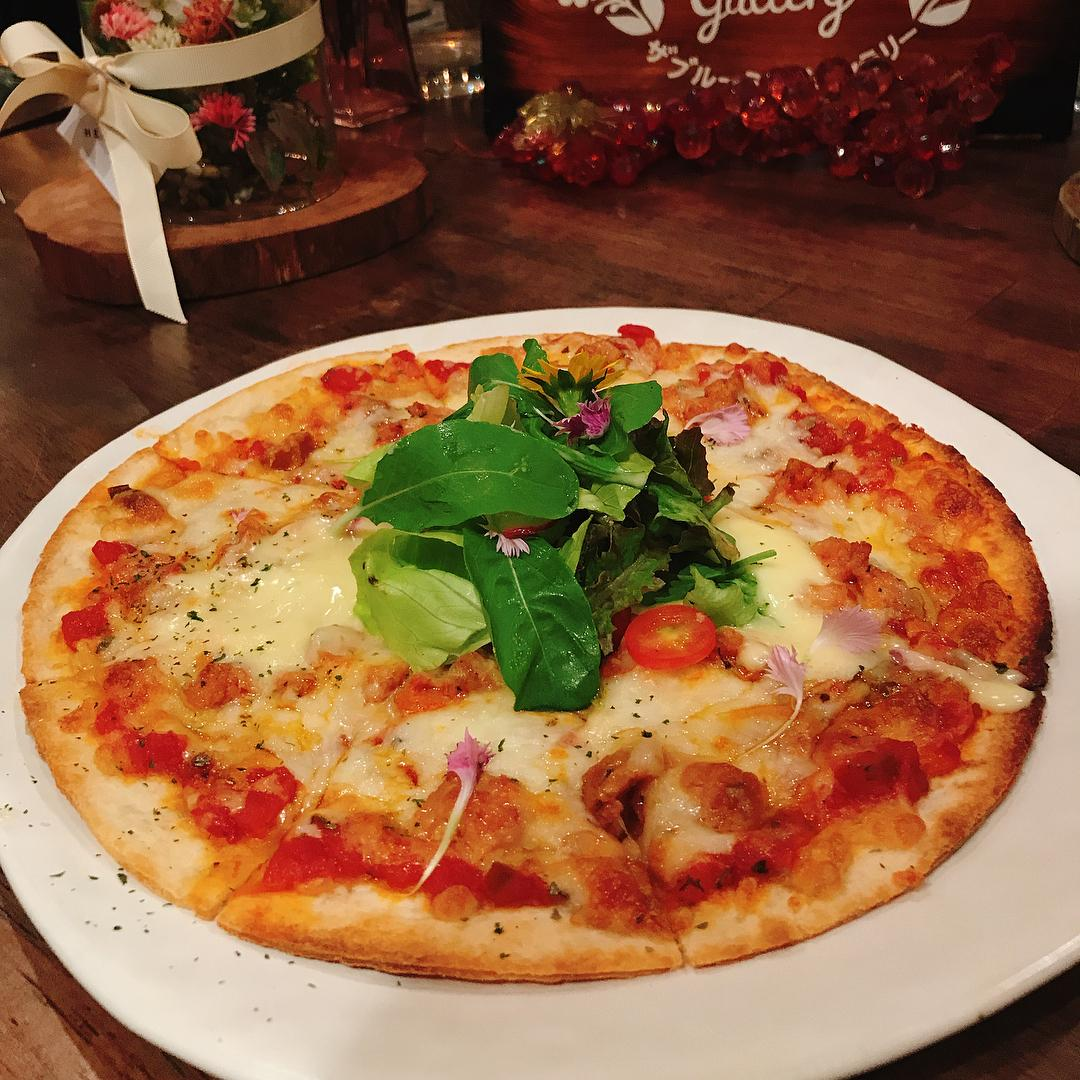Pizza: (13, 315, 1058, 998)
Tomatoes: (621, 598, 718, 673)
